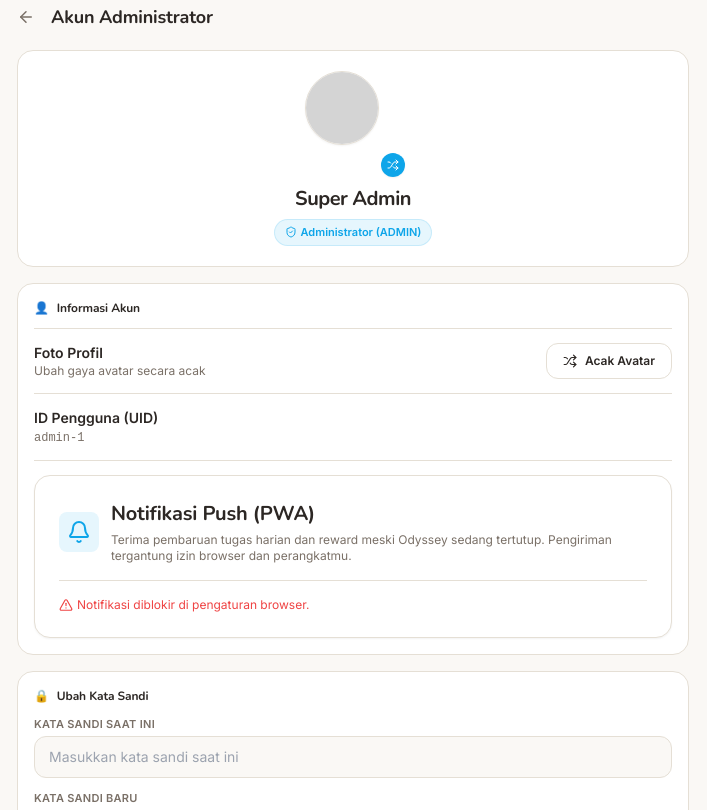
Test case: ProfilePage › Admin / Guide / Builder Role View › allows Admin to submit change password successfully
The image size is (707, 810).
Type "adminCurrent123" into the password field with placeholder "Masukkan kata sandi saat ini". click: point(353, 757)
box: [34,736,672,778]
(page scrolled)
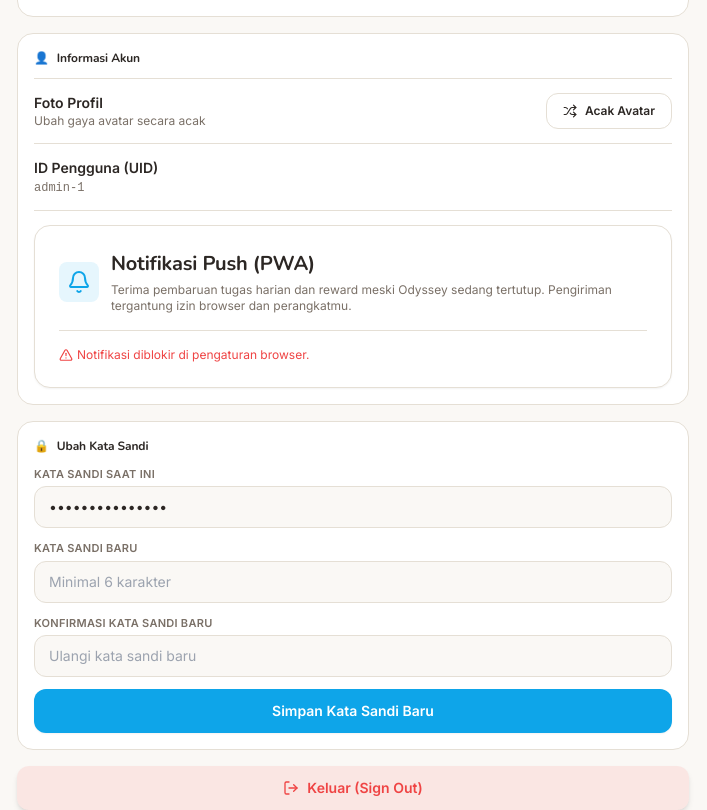
Type "adminNew456" into the password field with placeholder "Minimal 6 karakter". click: point(353, 582)
box: [34,560,672,602]
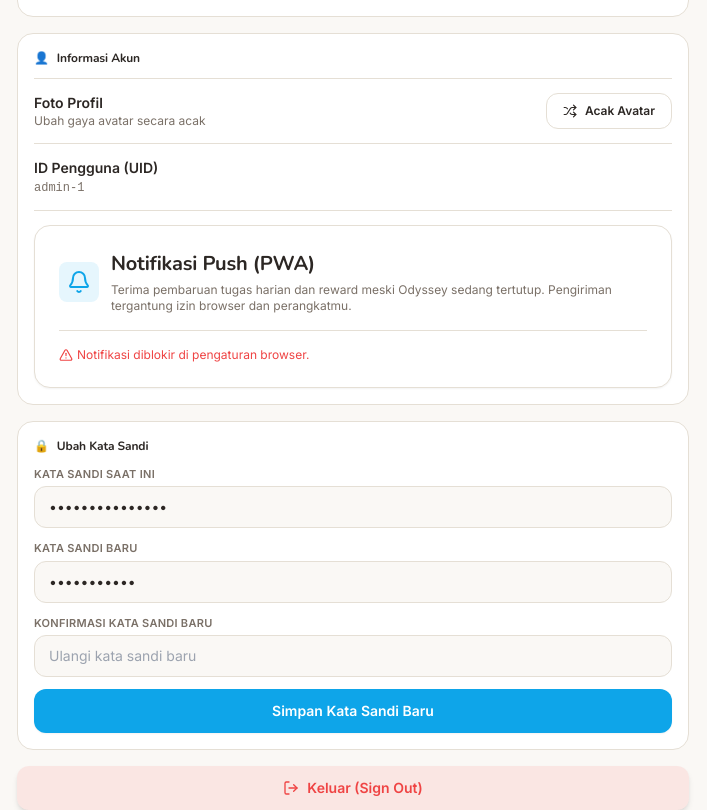
Type "adminNew456" into the password field with placeholder "Ulangi kata sandi baru". click: point(353, 656)
box: [34,635,672,677]
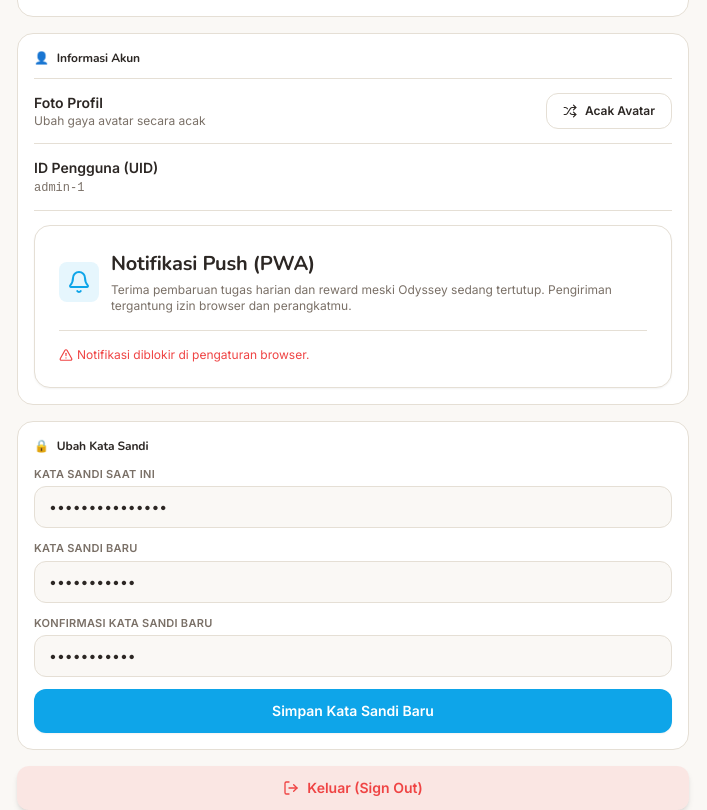
Click the button "Simpan Kata Sandi Baru". click: point(353, 711)
box: [34,689,672,733]
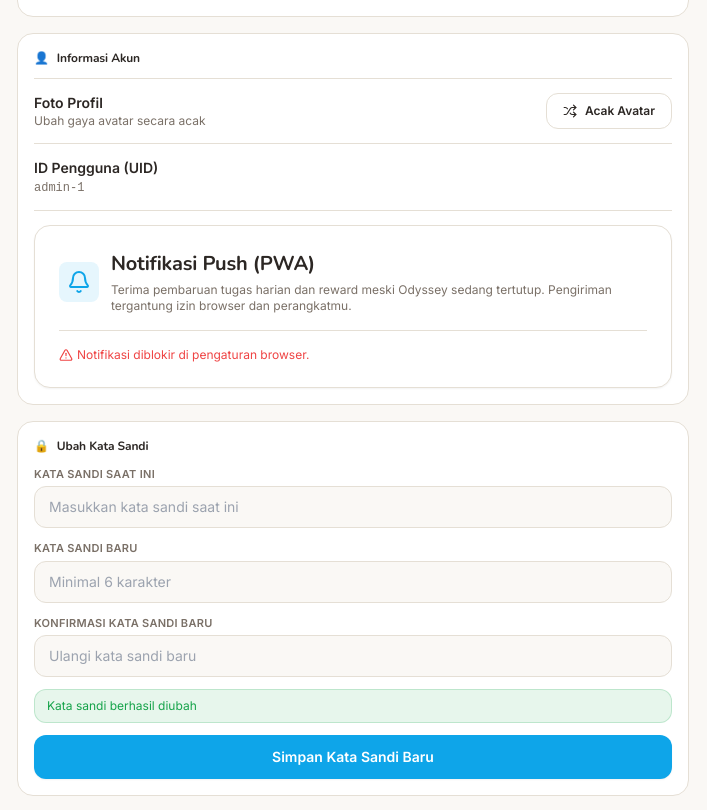
Result: the text "Kata sandi berhasil diubah" is shown at [34,689,672,723]
